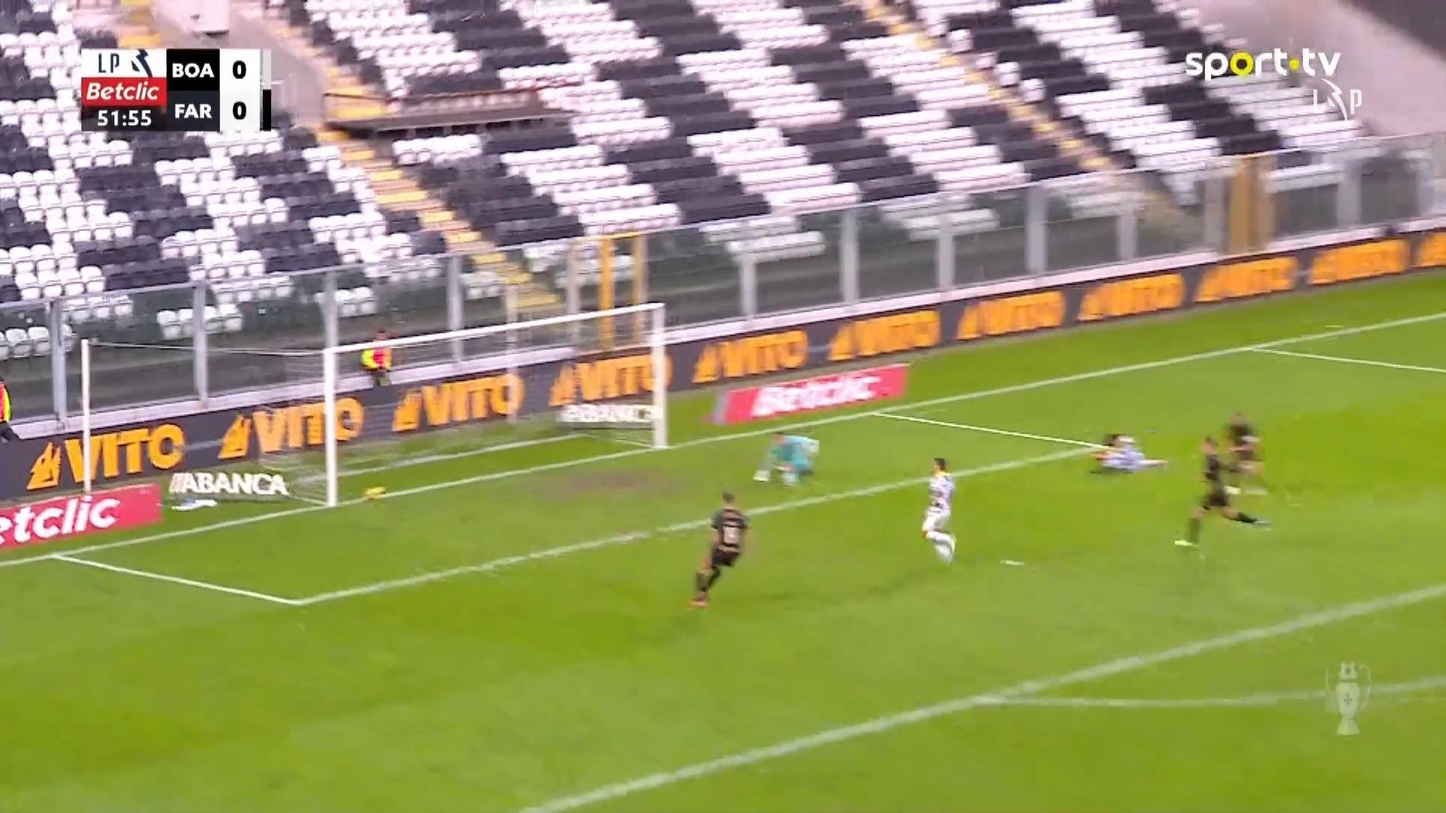ball: (364, 486, 386, 501)
goalkeeper: (752, 428, 819, 486)
player: (1173, 433, 1271, 550), (687, 489, 750, 608), (1221, 410, 1269, 498), (920, 455, 957, 565), (1088, 431, 1168, 474)
